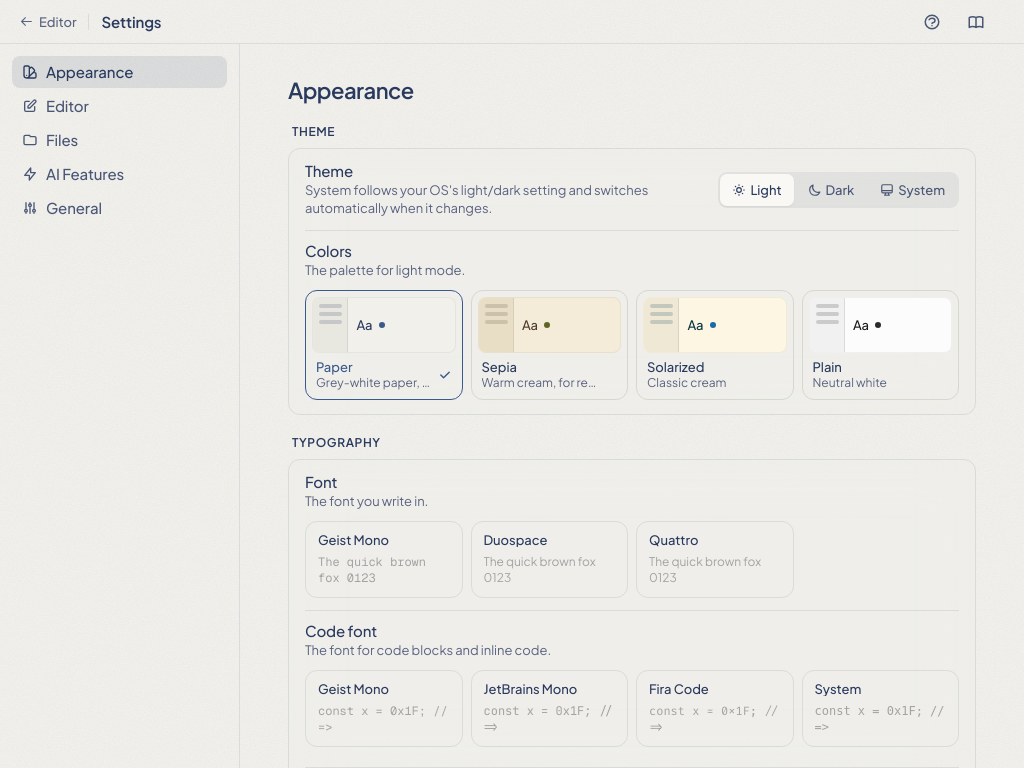
it: SettingsPage › renders file and autosave options in the Files section
What coordinates should you click on to do the following:
click the button "Files"
I would click on:
 (120, 140)
Its box is 12,124 -> 227,156.
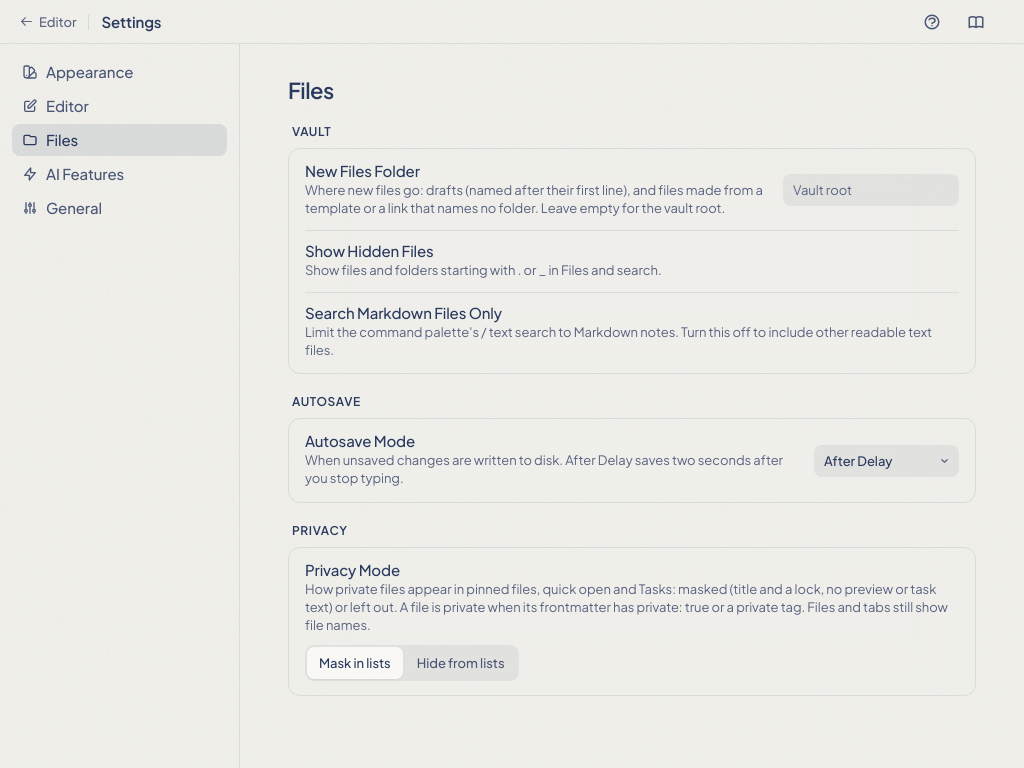
Check: the text "New Files Folder" is shown, box 305,161 -> 420,180
Check: the text "Show Hidden Files" is shown, box 305,241 -> 434,260
Check: the text "Autosave Mode" is shown, box 305,431 -> 415,450
